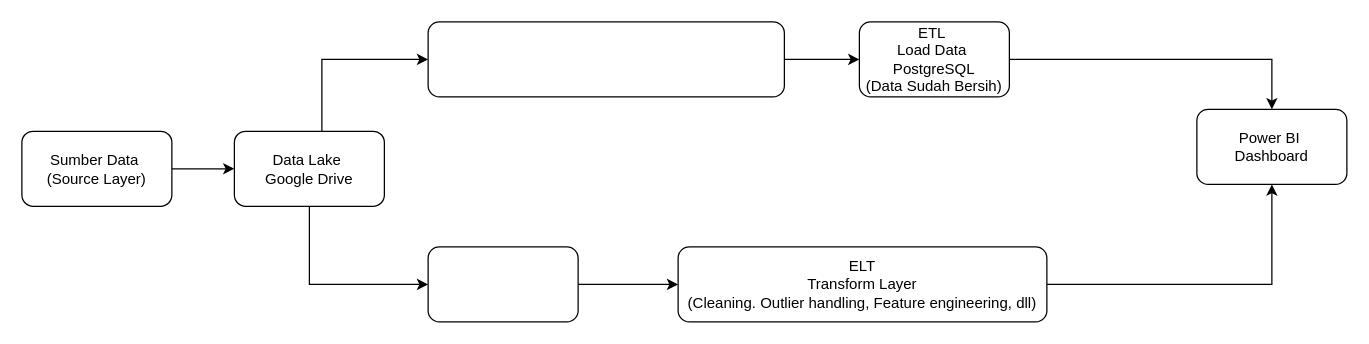
Some shapes in this 1369 by 344 pixel diagram are drawn without their labels. The shapes that lost their labels are listed below. From the top down, each one's box as (x1, y1, x2, y2) in pixels, then its label:
(427, 21, 784, 97): ETL Transform Layer (Cleaning. Outlier handling, Feature engineering, dll)
(427, 246, 578, 322): ELT Load Data PostgreSQL (Data Kotor)
